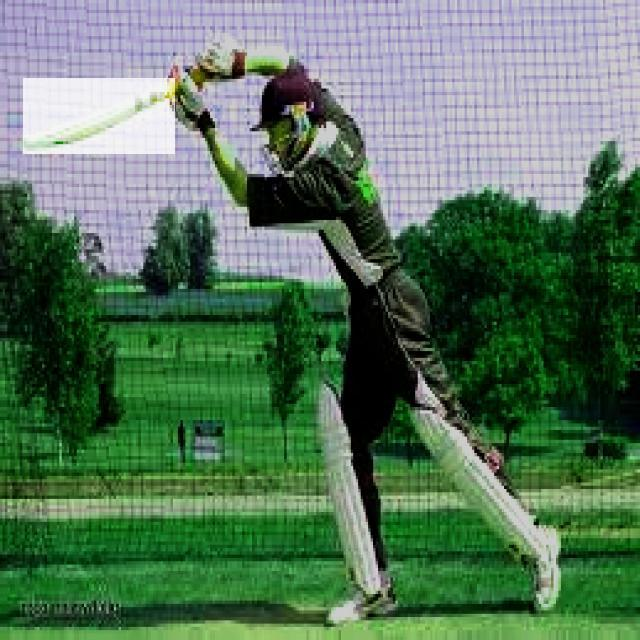bat: (23, 78, 174, 156)
